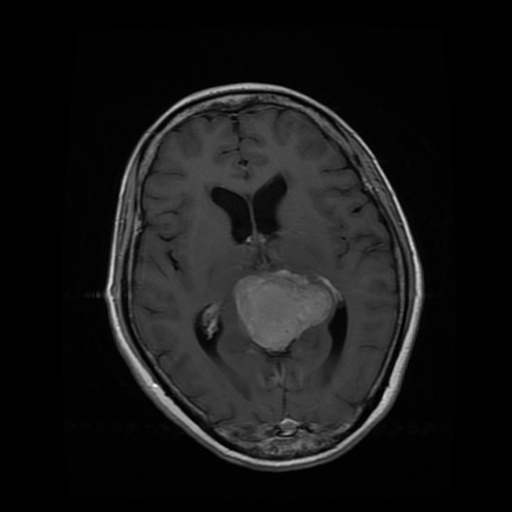meningioma: (233, 269, 333, 352)
